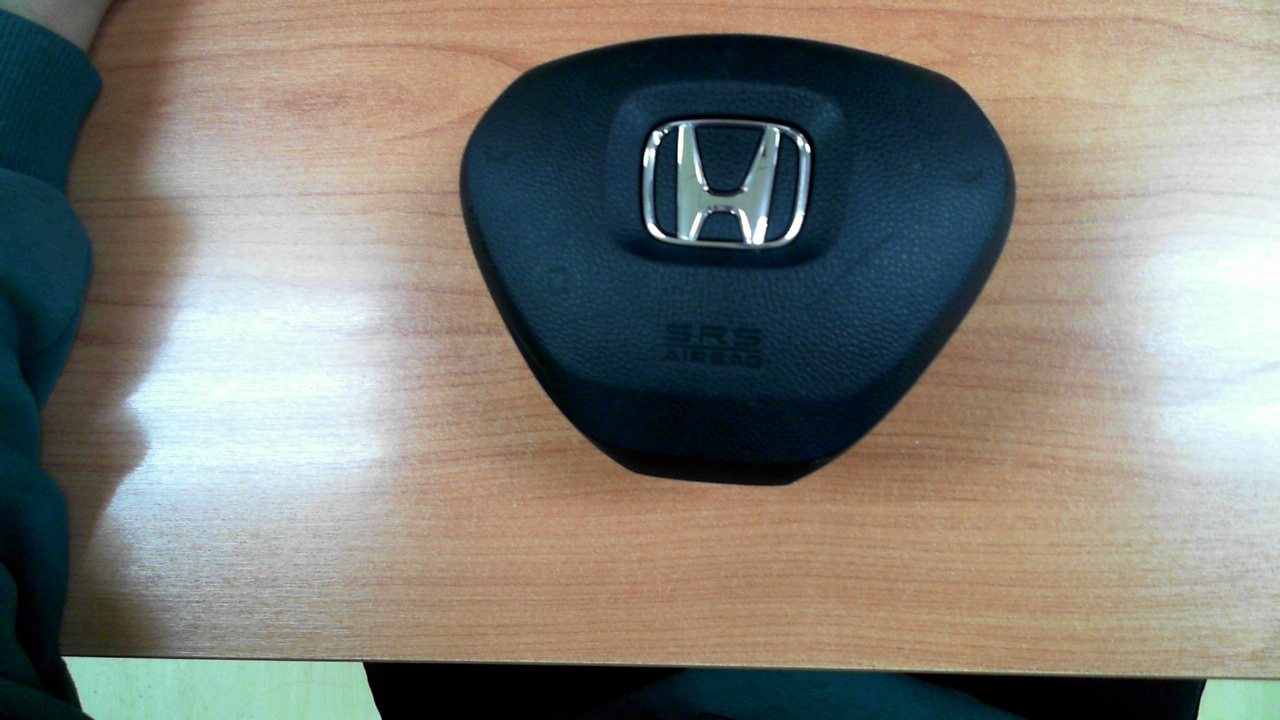Airbag: (459, 32, 1016, 486)
Honda: (641, 118, 812, 249)
